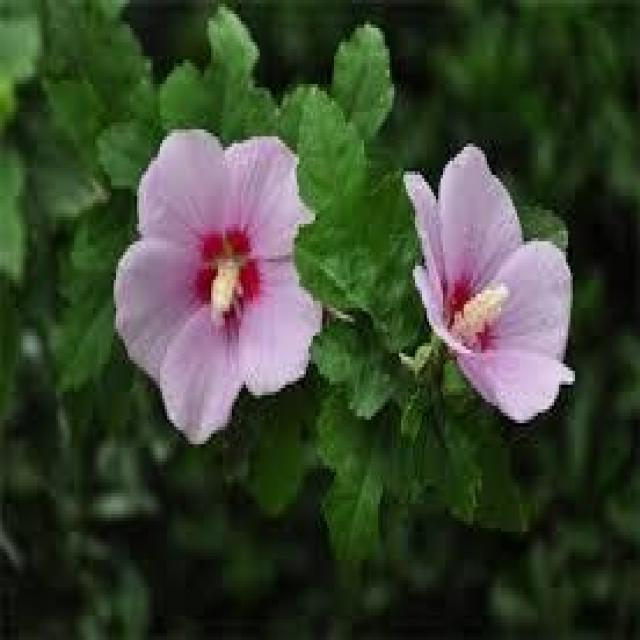organic waste: (111, 128, 320, 439), (396, 138, 586, 422)
